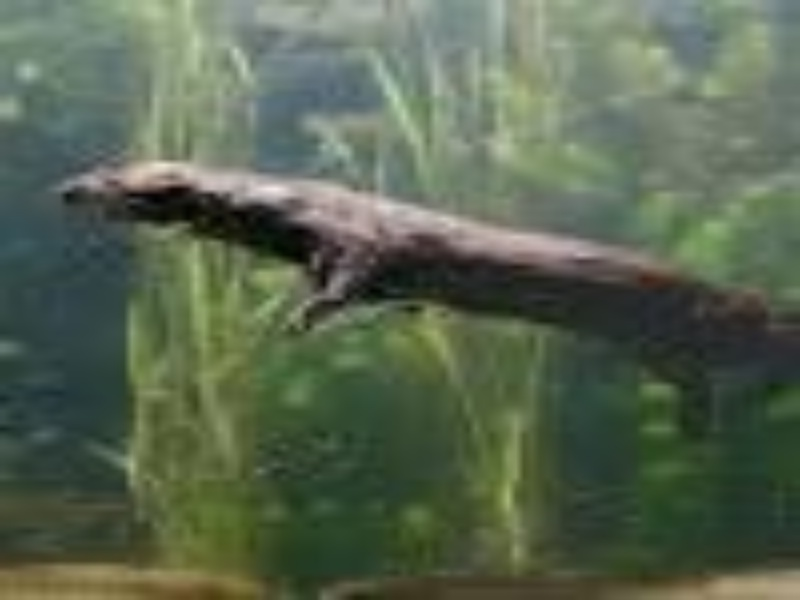minkish: (59, 159, 799, 443)
